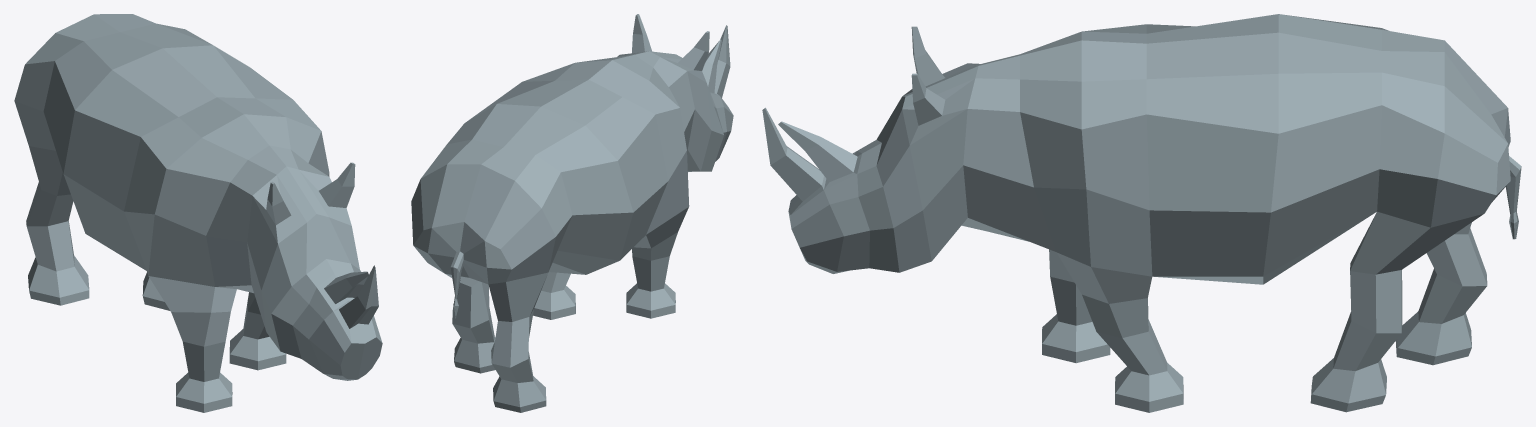
Rendered from Nashorn.fbx.
The picture shows the model from 3 angles, left to right: view 1: azimuth 30°, elevation 25°; view 2: azimuth 150°, elevation 25°; view 3: azimuth 270°, elevation 25°; orthographic projection. The views are drawn at different scales.
Parts seen in each view (by area): view 1: Nashorn.002; view 2: Nashorn.002; view 3: Nashorn.002.
Boxes of the visible parts, <box> form: Nashorn.002: <box>14,14,382,412</box>; Nashorn.002: <box>411,14,733,412</box>; Nashorn.002: <box>762,14,1521,412</box>.
Bounding box in the file's own units: 1.76 × 2.3 × 4.66.
